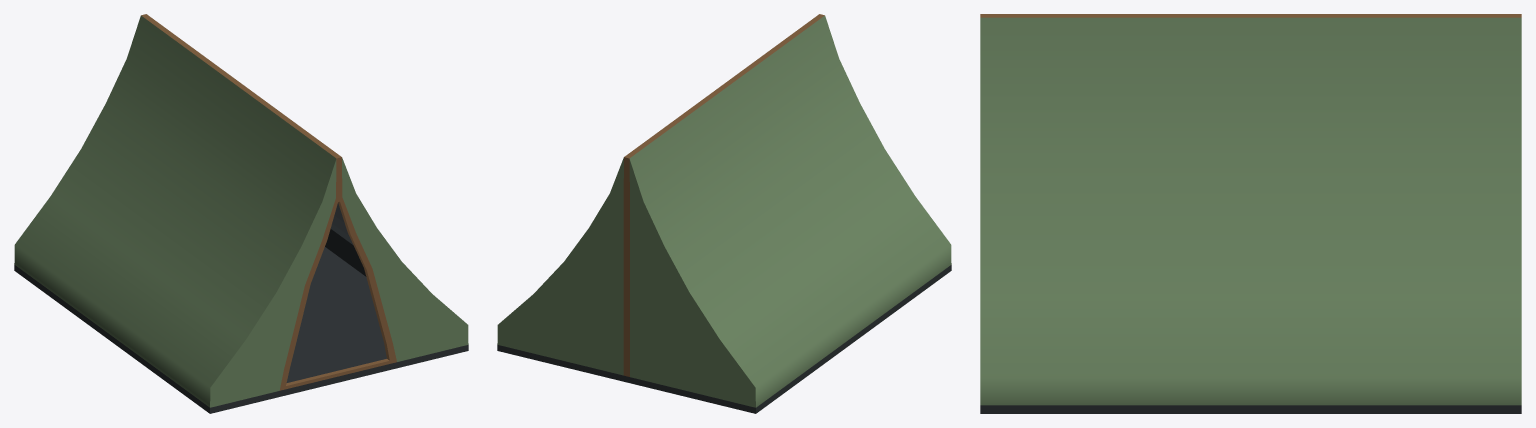
The model's file is Geo_Tent.fbx.
The picture shows the model from 3 angles, left to right: view 1: azimuth 30°, elevation 25°; view 2: azimuth 150°, elevation 25°; view 3: azimuth 270°, elevation 25°; orthographic projection. The views are drawn at different scales.
Visible parts, largest first — view 1: pCube168; view 2: pCube168; view 3: pCube168.
Part boxes in pixels (box(x1,y1,x2,y2)): pCube168: box(14, 14, 468, 413); pCube168: box(497, 14, 951, 413); pCube168: box(980, 14, 1521, 413).
Bounding box in the file's own units: 190 × 158 × 249.
